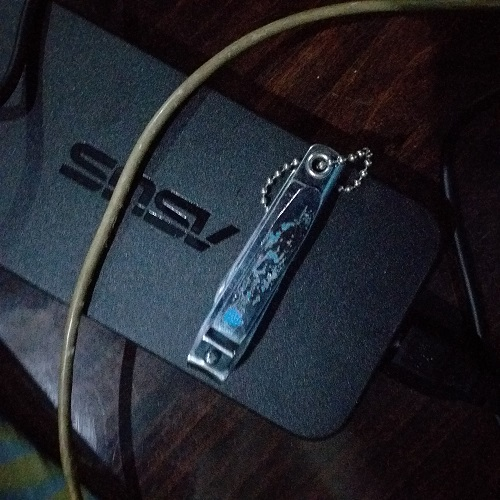nailcutter: (176, 137, 379, 386)
